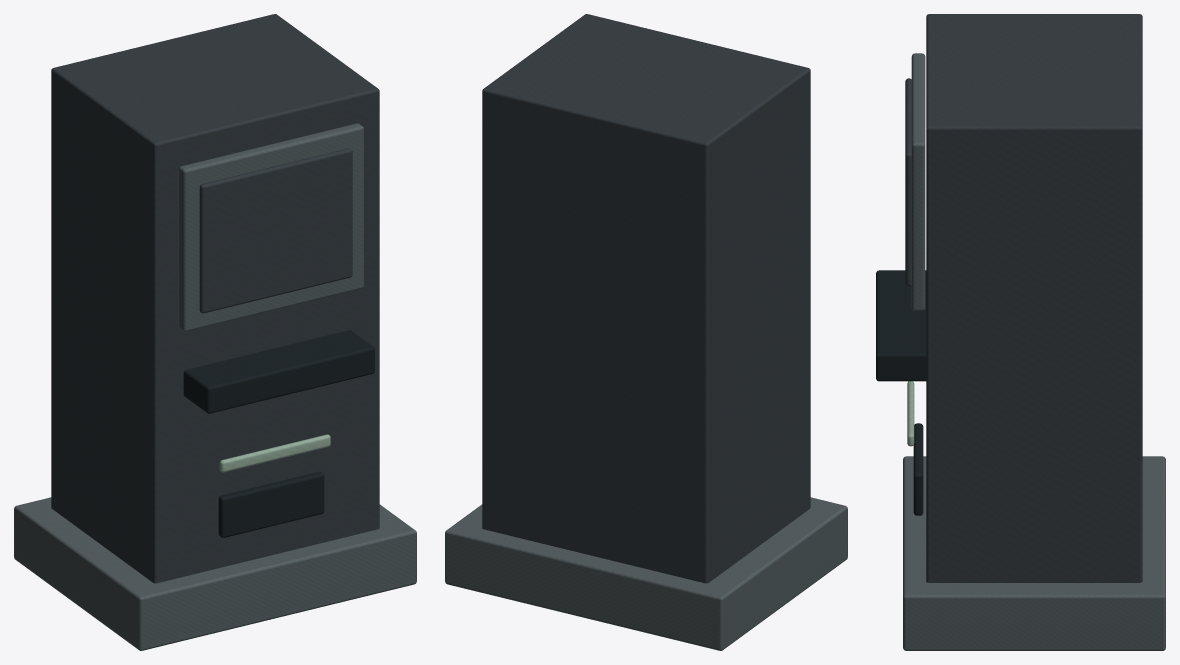
The model's file is ArchiveTerminal.fbx.
3 renders of one model, left to right at view 1: azimuth 30°, elevation 25°; view 2: azimuth 150°, elevation 25°; view 3: azimuth 270°, elevation 25°, orthographic. The views are drawn at different scales.
Visible parts, largest first — view 1: ArchiveTerminal_Mesh; view 2: ArchiveTerminal_Mesh; view 3: ArchiveTerminal_Mesh.
Boxes of the visible parts, x1,y1,x2,y2 form: ArchiveTerminal_Mesh: [14, 14, 416, 650]; ArchiveTerminal_Mesh: [445, 14, 847, 650]; ArchiveTerminal_Mesh: [876, 14, 1165, 650].
Size of the model in its own units: 86 by 146 by 75.
4 materials, 4 textured.
